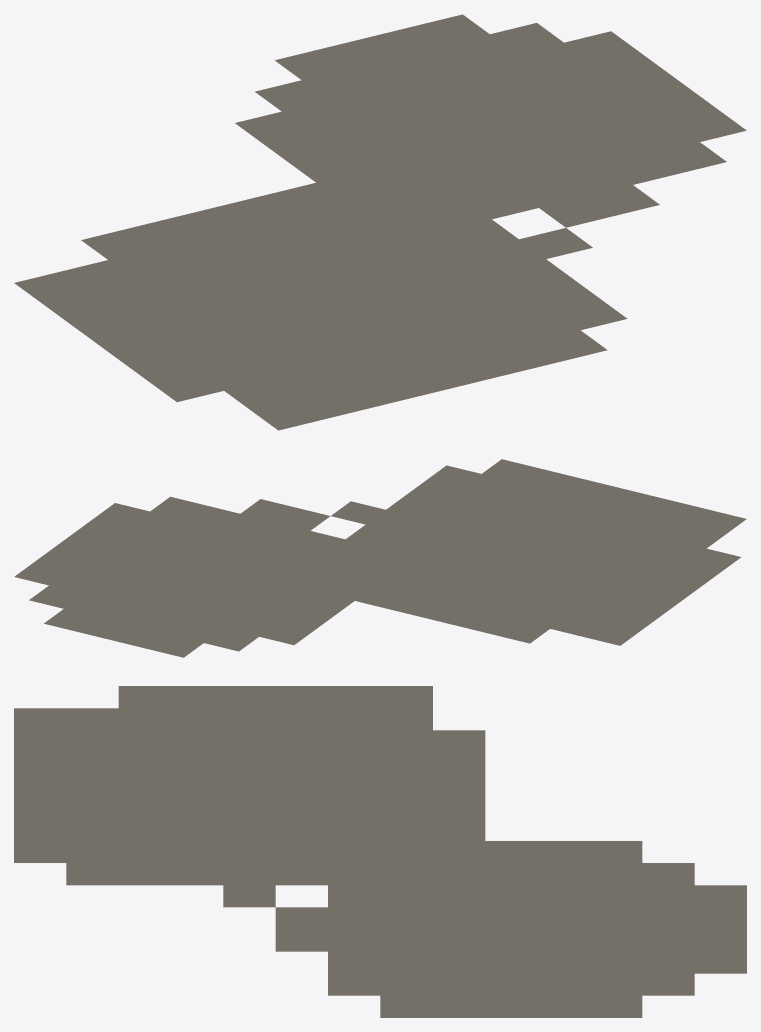
Rendered from Isl-flat6-RocksArea.fbx.
3 renders of one model, top to bottom at view 1: azimuth 30°, elevation 25°; view 2: azimuth 150°, elevation 25°; view 3: azimuth 270°, elevation 25°, orthographic. The views are drawn at different scales.
Parts seen in each view (by area): view 1: Isl-flat6-RocksArea; view 2: Isl-flat6-RocksArea; view 3: Isl-flat6-RocksArea.
Part boxes in pixels (<box>): Isl-flat6-RocksArea: <box>14,14,746,430</box>; Isl-flat6-RocksArea: <box>14,459,746,657</box>; Isl-flat6-RocksArea: <box>14,686,746,1017</box>.
Size of the model in its own units: 15 by 0 by 14.
